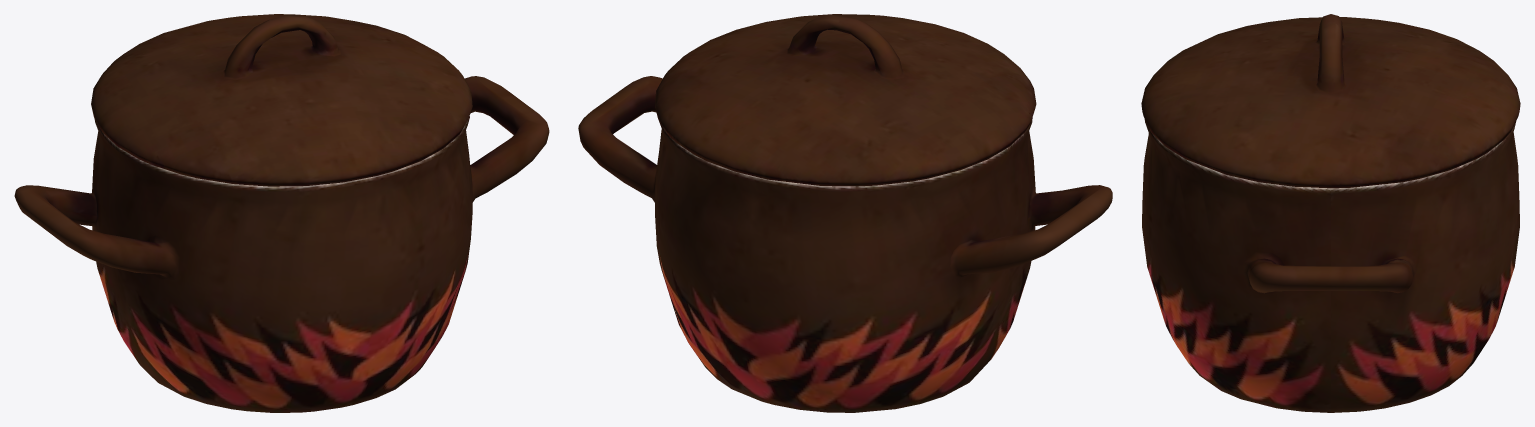
File: ph-pot_enamel_01.glb
3 views of the same model, side by side, from view 1: azimuth 30°, elevation 25°; view 2: azimuth 150°, elevation 25°; view 3: azimuth 270°, elevation 25° (orthographic).
Parts seen in each view (by area): view 1: pot_enamel_01_lid; view 2: pot_enamel_01_lid; view 3: pot_enamel_01_lid.
Part boxes in pixels (left/top/right/bottom): pot_enamel_01_lid: left=14, top=14, right=549, bottom=412; pot_enamel_01_lid: left=578, top=14, right=1112, bottom=412; pot_enamel_01_lid: left=1141, top=14, right=1520, bottom=412.
Size of the model in its own units: 0.2627 by 0.178 by 0.1805.
Materials: 1 (1 with a texture image).
